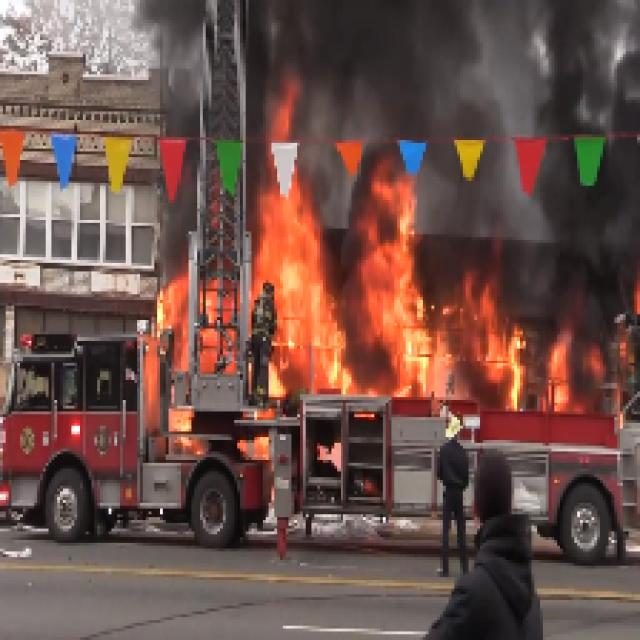fire: (247, 186, 332, 401), (352, 235, 430, 402)
smoke: (276, 10, 621, 220)
